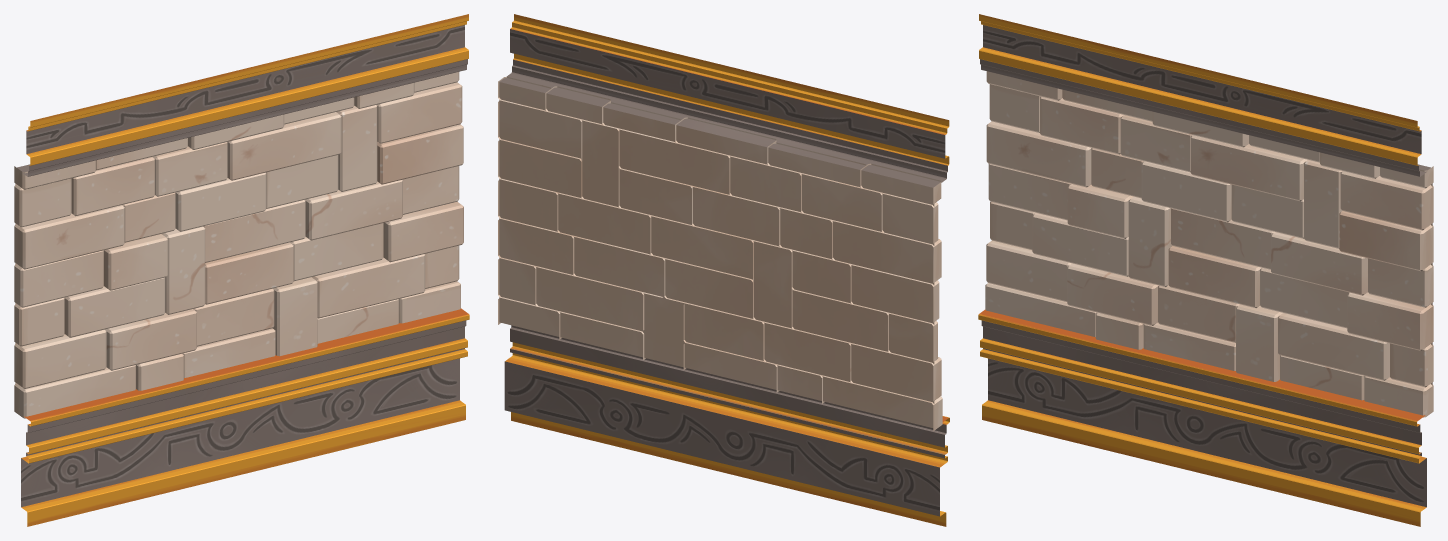
The model's file is Wall.fbx.
3 renders of one model, left to right at view 1: azimuth 30°, elevation 25°; view 2: azimuth 150°, elevation 25°; view 3: azimuth 330°, elevation 25°, orthographic.
Parts seen in each view (by area): view 1: Wall; view 2: Wall; view 3: Wall.
Part boxes in pixels (left/top/right/bottom): Wall: left=14, top=14, right=469, bottom=526; Wall: left=498, top=14, right=949, bottom=526; Wall: left=978, top=14, right=1433, bottom=526.
Bounding box in the file's own units: 9 × 8 × 0.5902.
